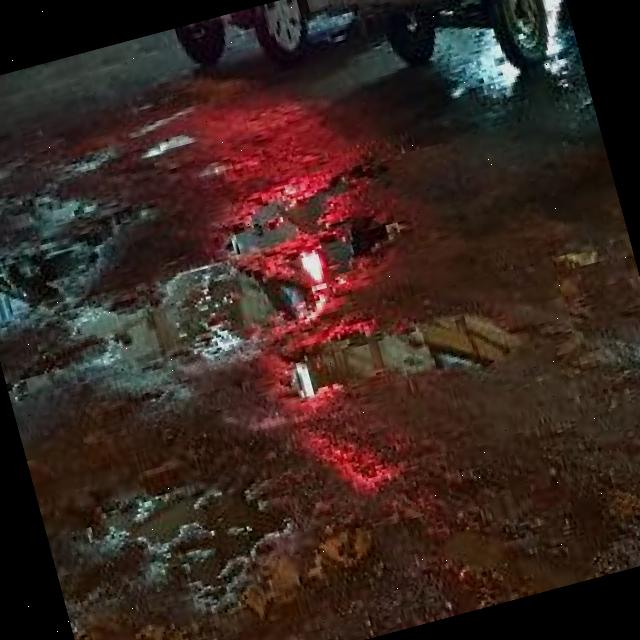stagnation: (0, 123, 387, 427)
